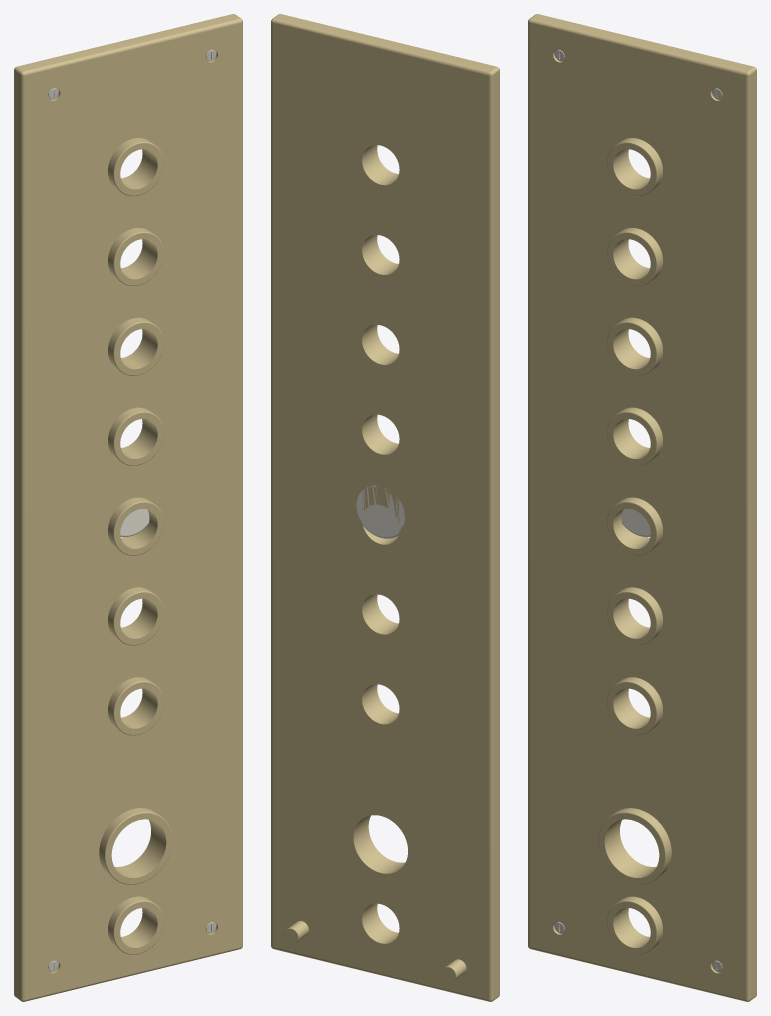
The model's file is lift_cab_controls.glb.
3 views of the same model, side by side, from view 1: azimuth 30°, elevation 25°; view 2: azimuth 150°, elevation 25°; view 3: azimuth 330°, elevation 25° (orthographic).
Visible parts, largest first — view 1: CabPlate, StopCap; view 2: CabPlate, StopCap; view 3: CabPlate, StopCap.
Part boxes in pixels (<box>): CabPlate: <box>14,14,242,1001</box>; StopCap: <box>120,509,149,537</box>; CabPlate: <box>271,14,499,1001</box>; StopCap: <box>356,485,404,538</box>; CabPlate: <box>528,14,756,1001</box>; StopCap: <box>621,509,650,537</box>.
Bounding box in the file's own units: 0.22 × 0.88 × 0.044.
